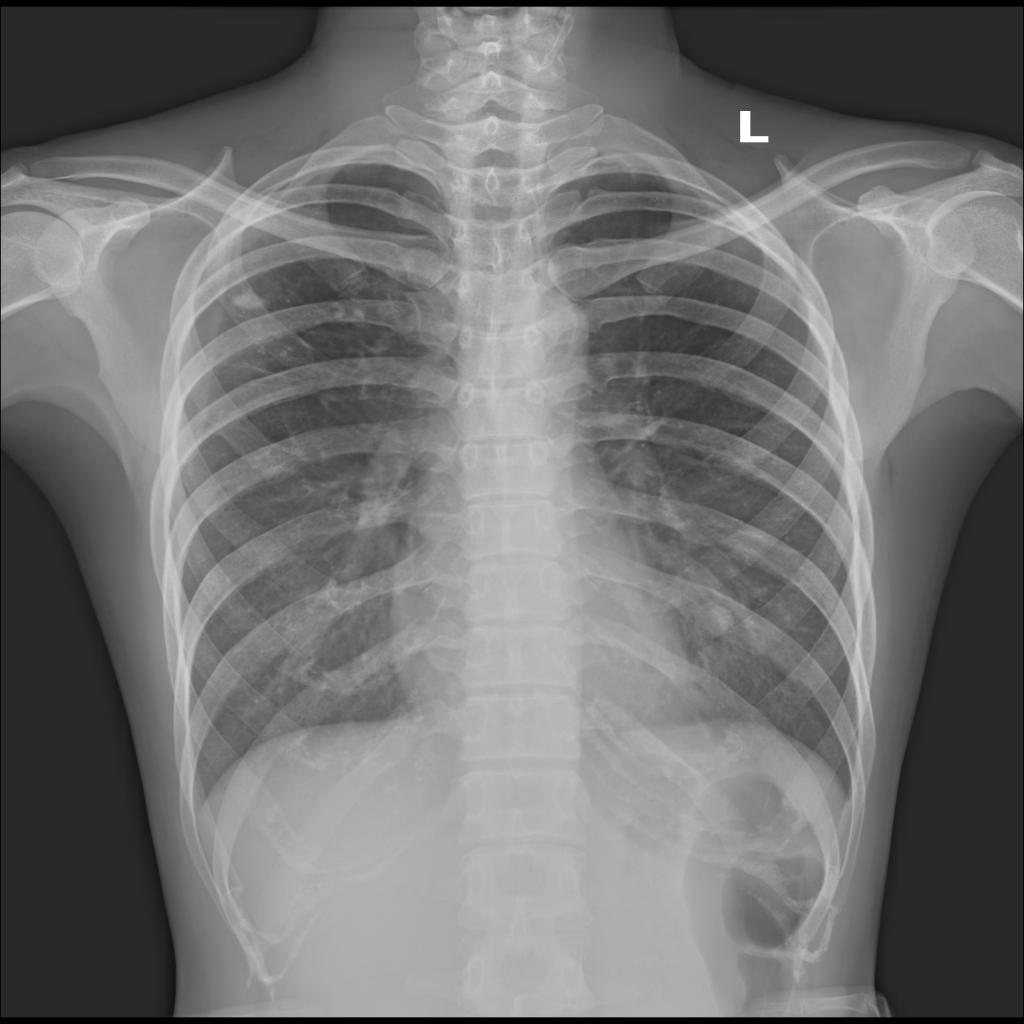Nodule: (701, 599, 733, 637), (231, 292, 266, 312)
